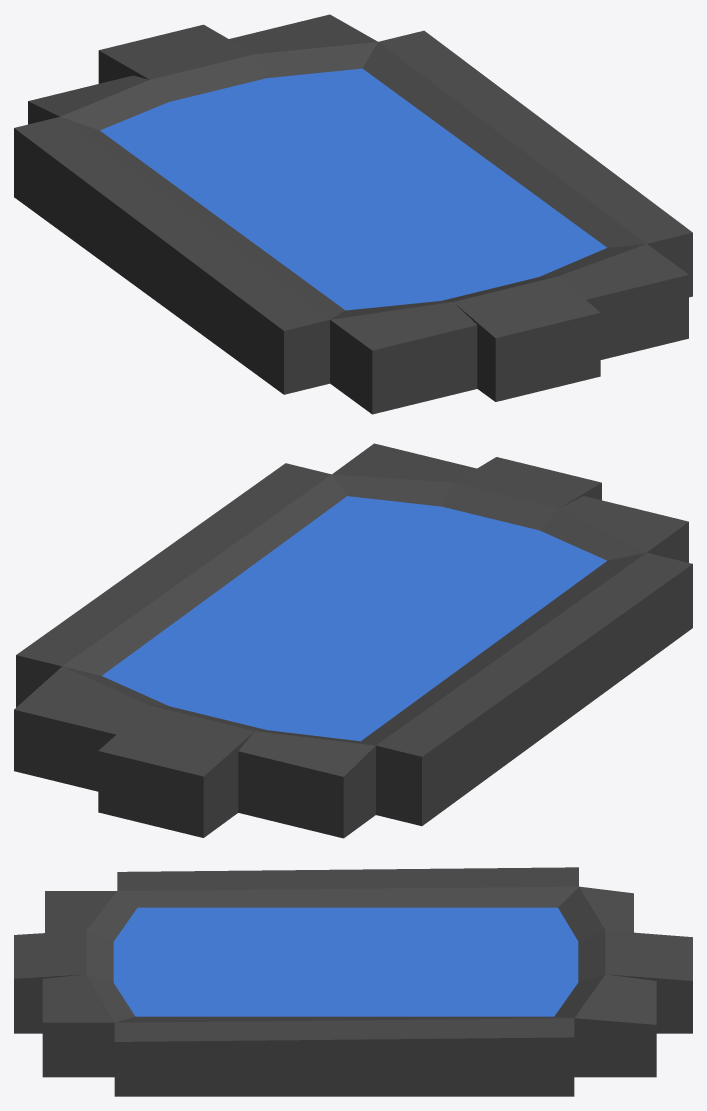
File: puddle.fbx
The picture shows the model from 3 angles, top to bottom: view 1: azimuth 30°, elevation 25°; view 2: azimuth 150°, elevation 25°; view 3: azimuth 270°, elevation 25°; orthographic projection. The views are drawn at different scales.
Visible parts, largest first — view 1: Cube; view 2: Cube; view 3: Cube.
Part boxes in pixels (<box>): Cube: <box>14,14,692,414</box>; Cube: <box>14,443,692,838</box>; Cube: <box>14,867,692,1096</box>.
Size of the model in its own units: 464 by 75.29 by 783.
